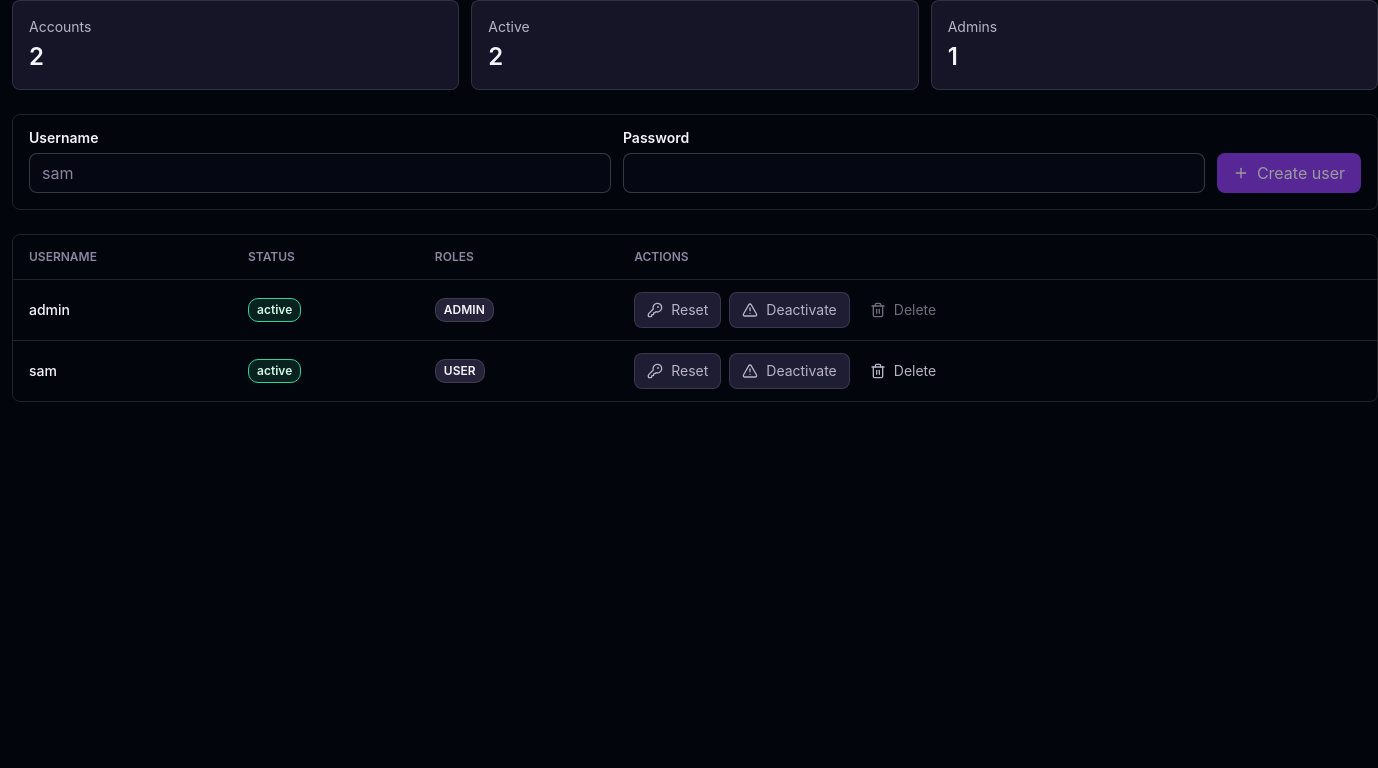
Test: UsersSettings › surfaces reset errors and status changes
The image size is (1378, 768).
Click the button "Reset" in the row of "sam" at x=678, y=370, box x1=634 y1=352 x2=721 y2=388
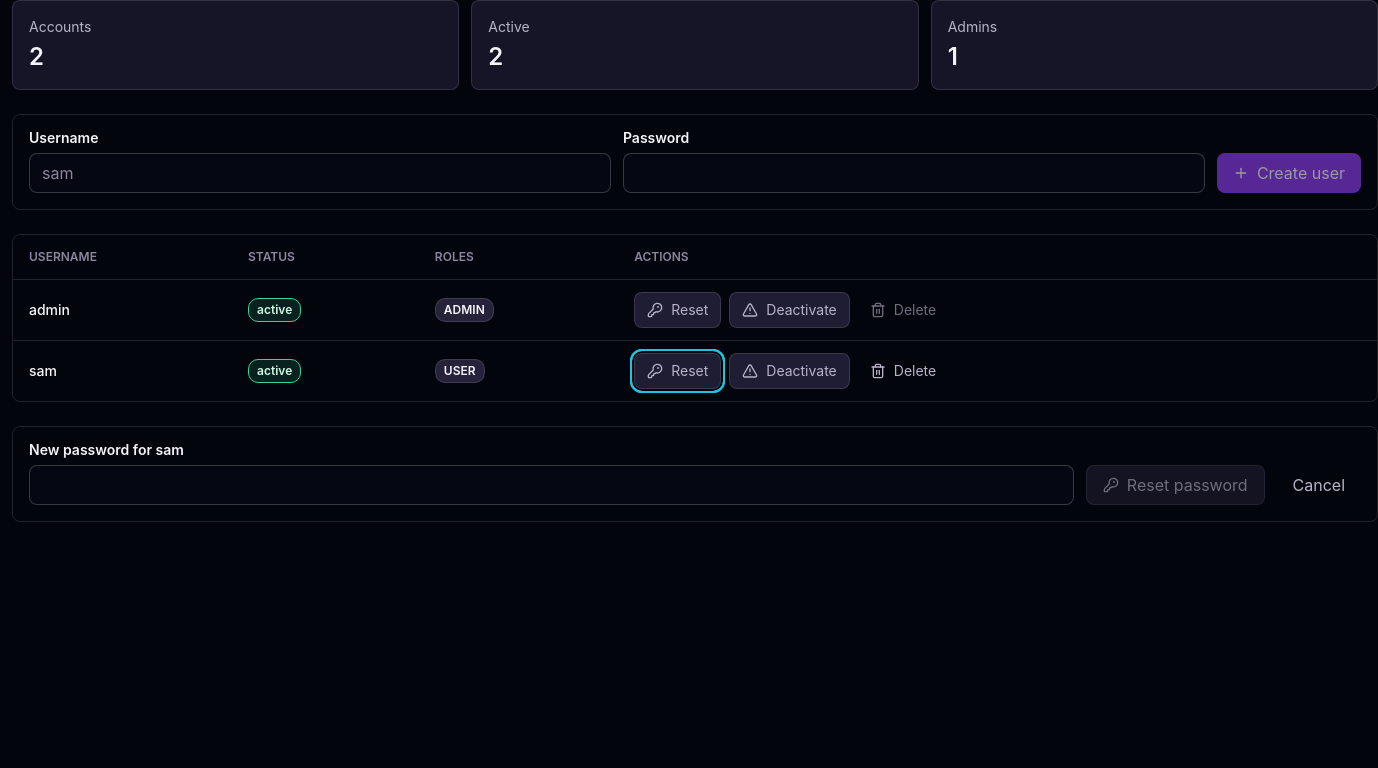
Type "short but long" into the password field labelled "New password for sam" at x=551, y=484, box x1=29 y1=464 x2=1074 y2=504
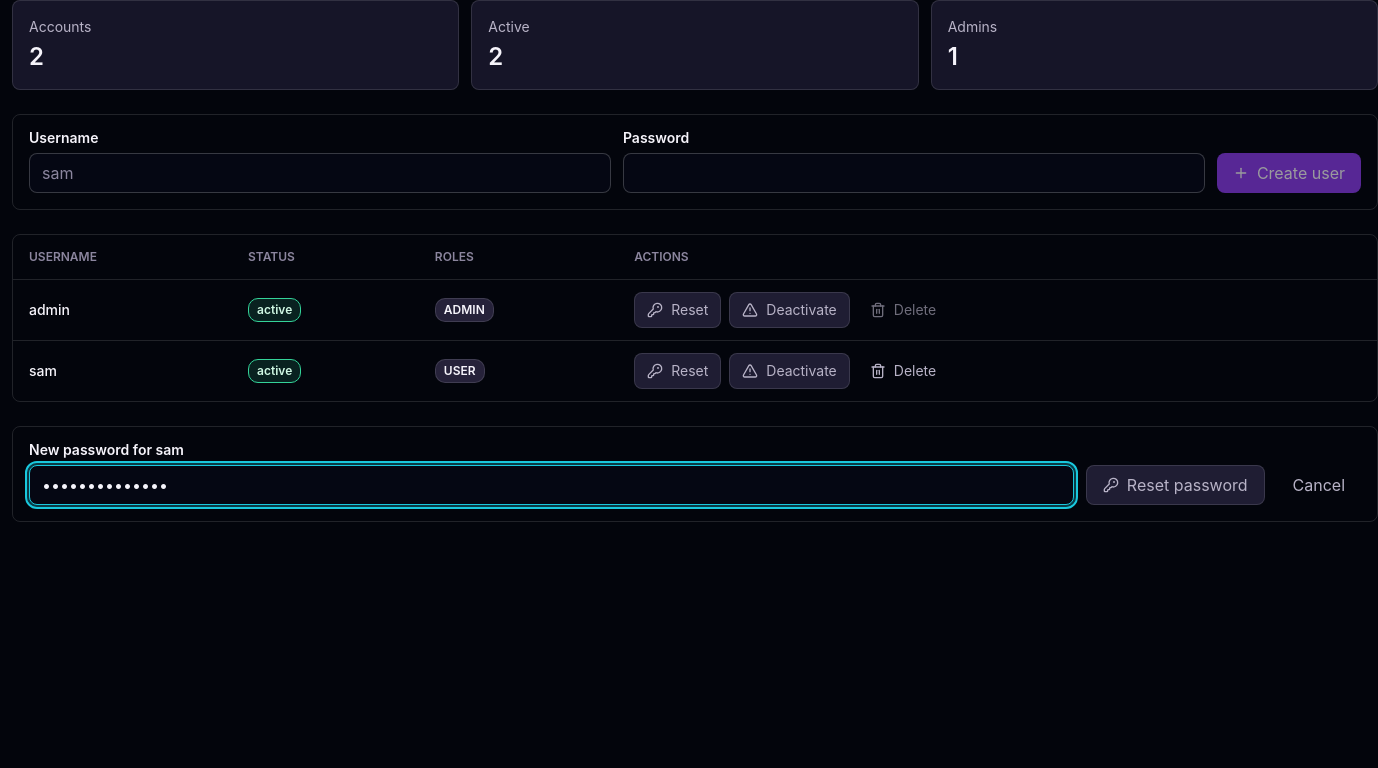
Click the button "Reset password" at x=1175, y=484, box x1=1086 y1=464 x2=1264 y2=504
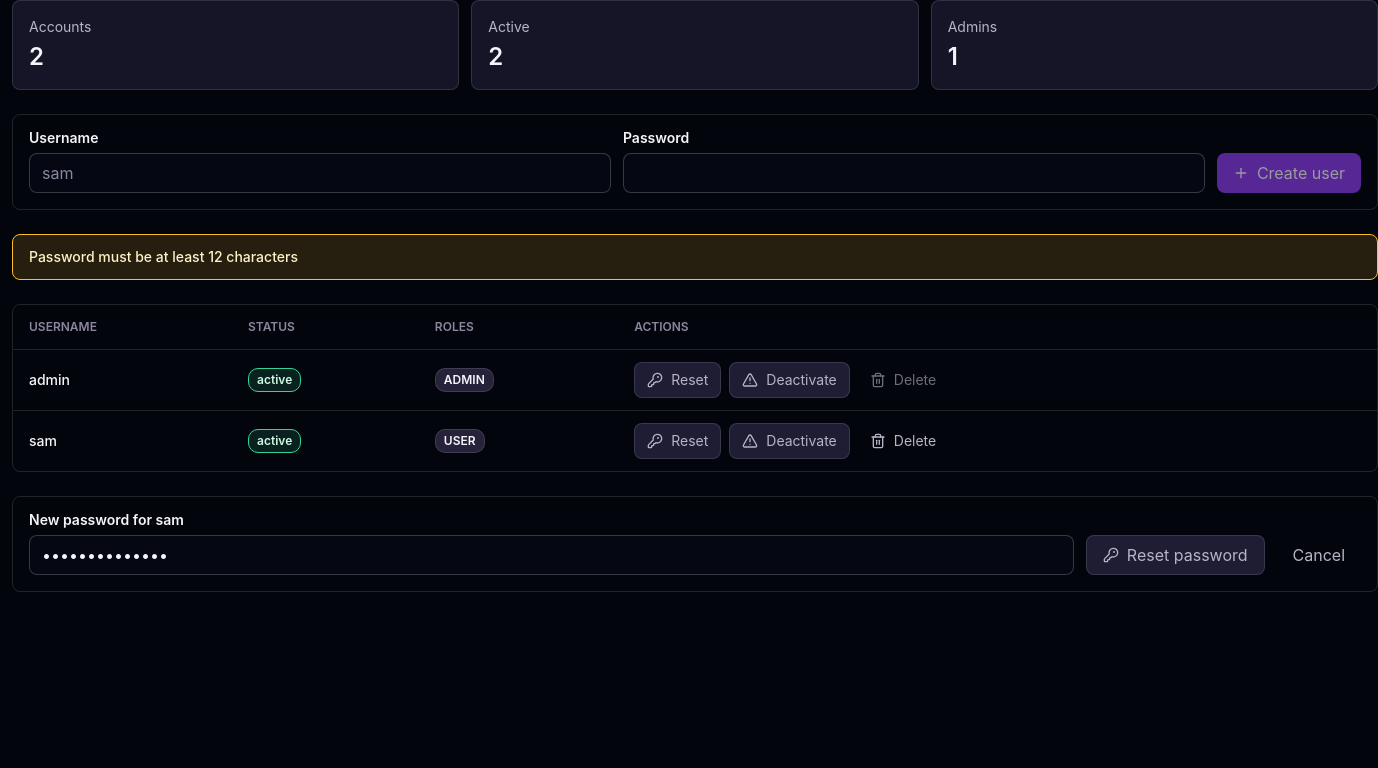
Expected: the text "Password must be at least 12 characters" is shown, x1=12 y1=234 x2=1377 y2=280
Click the 2nd button "Deactivate" at x=790, y=440, box x1=729 y1=422 x2=850 y2=458
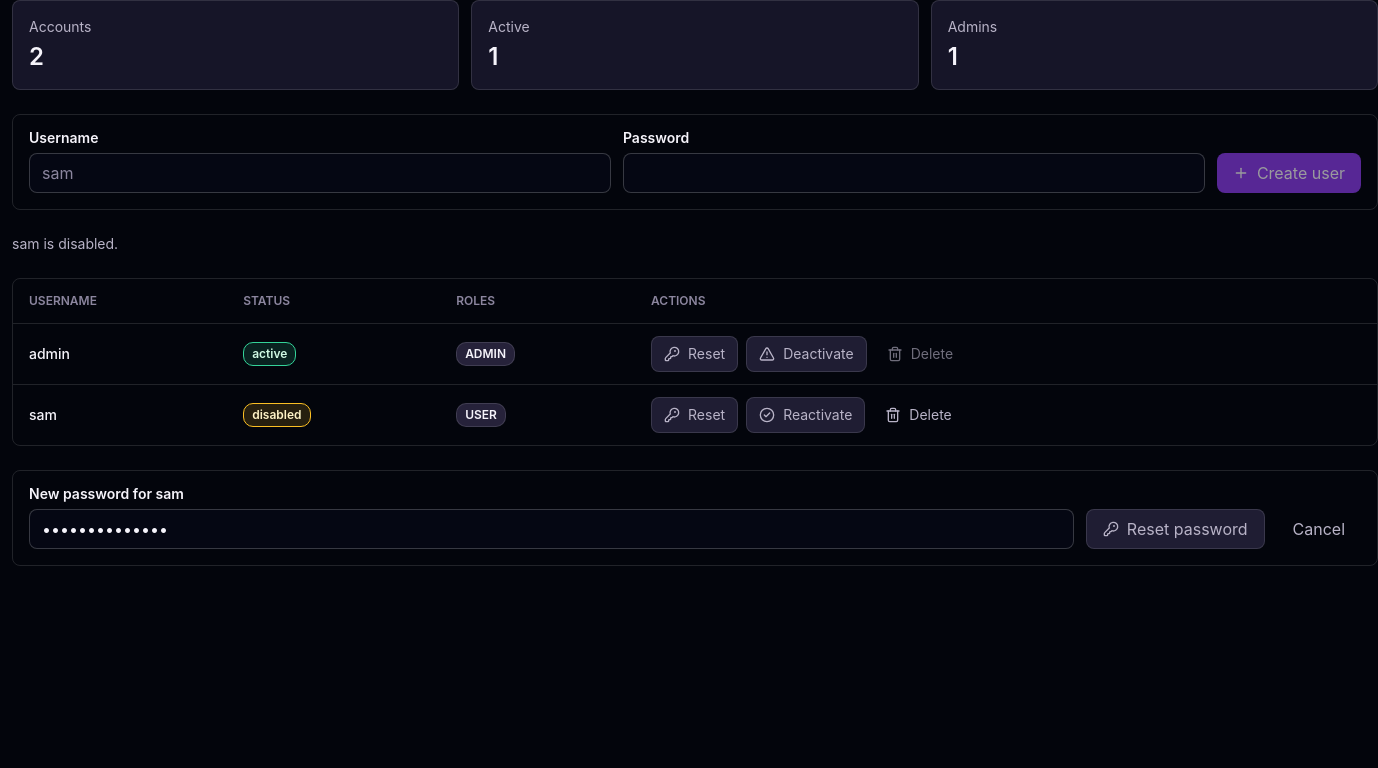
Expected: the text "sam is disabled." is shown, x1=12 y1=235 x2=118 y2=252
Expected: the row "sam disabled USER Reset Reactivate Delete" is shown, x1=13 y1=384 x2=1377 y2=444
